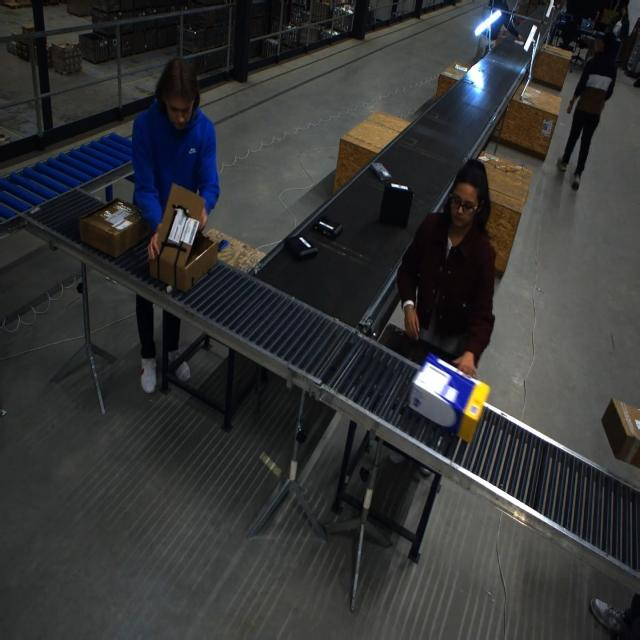box: (412, 349, 497, 454), (154, 191, 225, 293), (79, 197, 150, 259), (600, 399, 640, 469)
product: (274, 223, 320, 268), (377, 182, 414, 228), (313, 217, 345, 241), (370, 162, 391, 181)
